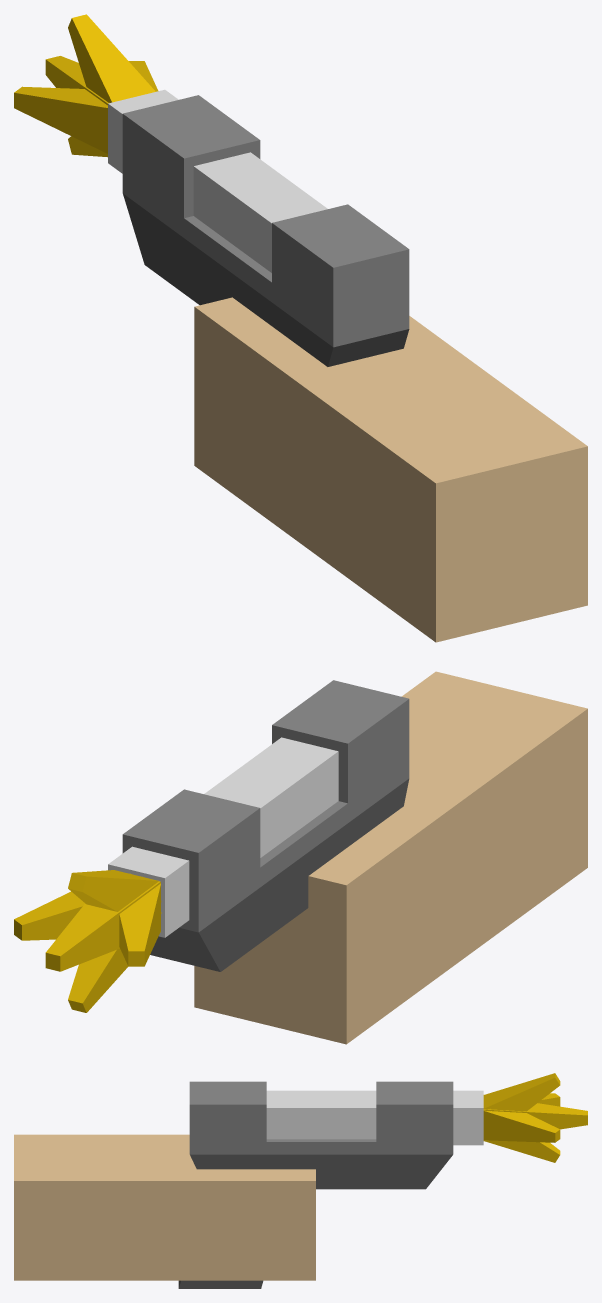
File: HandModel.fbx
3 views of the same model, one above another, from view 1: azimuth 30°, elevation 25°; view 2: azimuth 150°, elevation 25°; view 3: azimuth 270°, elevation 25° (orthographic). The views are drawn at different scales.
Visible parts, largest first — view 1: Hand, Gun2, Gun3, MuzzleFlash, Gun1; view 2: Hand, Gun2, MuzzleFlash, Gun3, Gun1; view 3: Hand, Gun2, Gun3, Gun1, MuzzleFlash.
Part boxes in pixels (x1=…): Hand: x1=194, y1=297, x2=587, y2=642; Gun2: x1=122, y1=95, x2=409, y2=347; Gun3: x1=108, y1=89, x2=327, y2=272; MuzzleFlash: x1=14, y1=14, x2=158, y2=157; Gun1: x1=123, y1=193, x2=409, y2=366; Hand: x1=194, y1=671, x2=587, y2=1044; Gun2: x1=122, y1=680, x2=409, y2=932; MuzzleFlash: x1=14, y1=870, x2=161, y2=1012; Gun3: x1=108, y1=737, x2=338, y2=937; Gun1: x1=150, y1=779, x2=409, y2=971; Hand: x1=14, y1=1134, x2=315, y2=1280; Gun2: x1=189, y1=1081, x2=453, y2=1154; Gun3: x1=266, y1=1090, x2=483, y2=1145; Gun1: x1=178, y1=1154, x2=452, y2=1288; MuzzleFlash: x1=483, y1=1073, x2=587, y2=1162.
Bounding box in the file's own units: 40 × 81.18 × 209.
